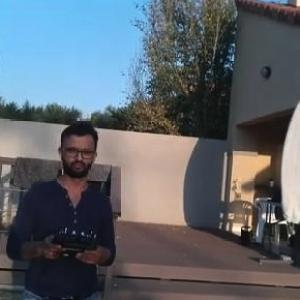follow: (1, 114, 121, 299)
